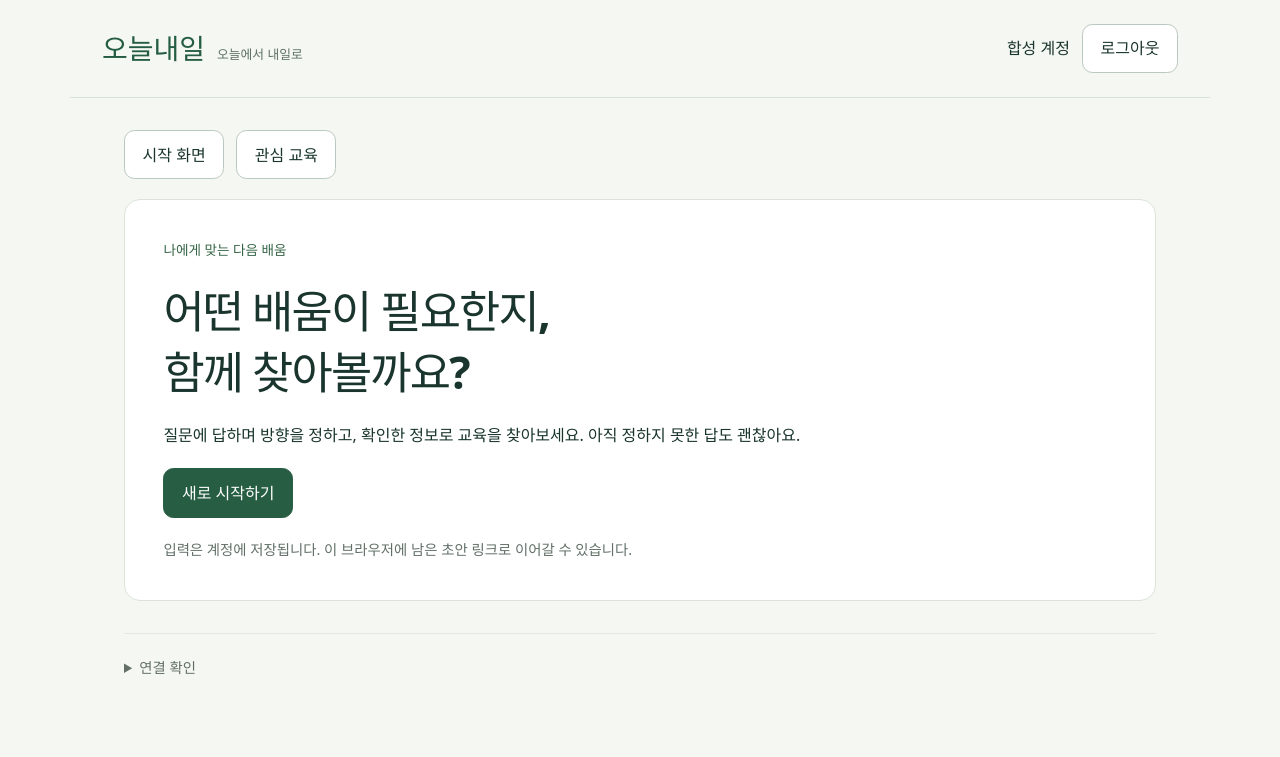
초안 생성·다시 불러오기 › 생성 실패 후 재시도 버튼이 실제 생성 요청을 다시 보내고 초안을 연다
Click the button "새로 시작하기" at (228, 493), box [163,468,293,518]
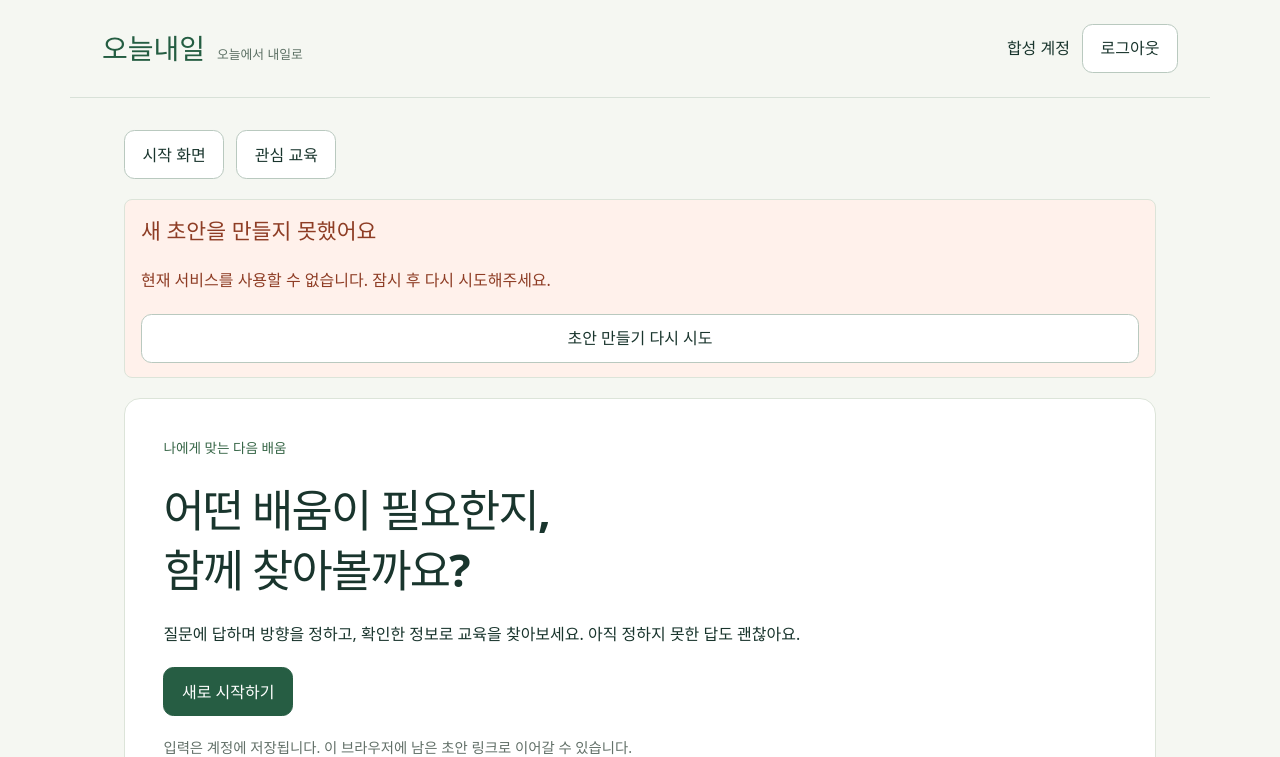
Now the heading "새 초안을 만들지 못했어요" is shown, box [141,216,376,245]
Click the button "초안 만들기 다시 시도" at (640, 338), box [141,314,1139,363]
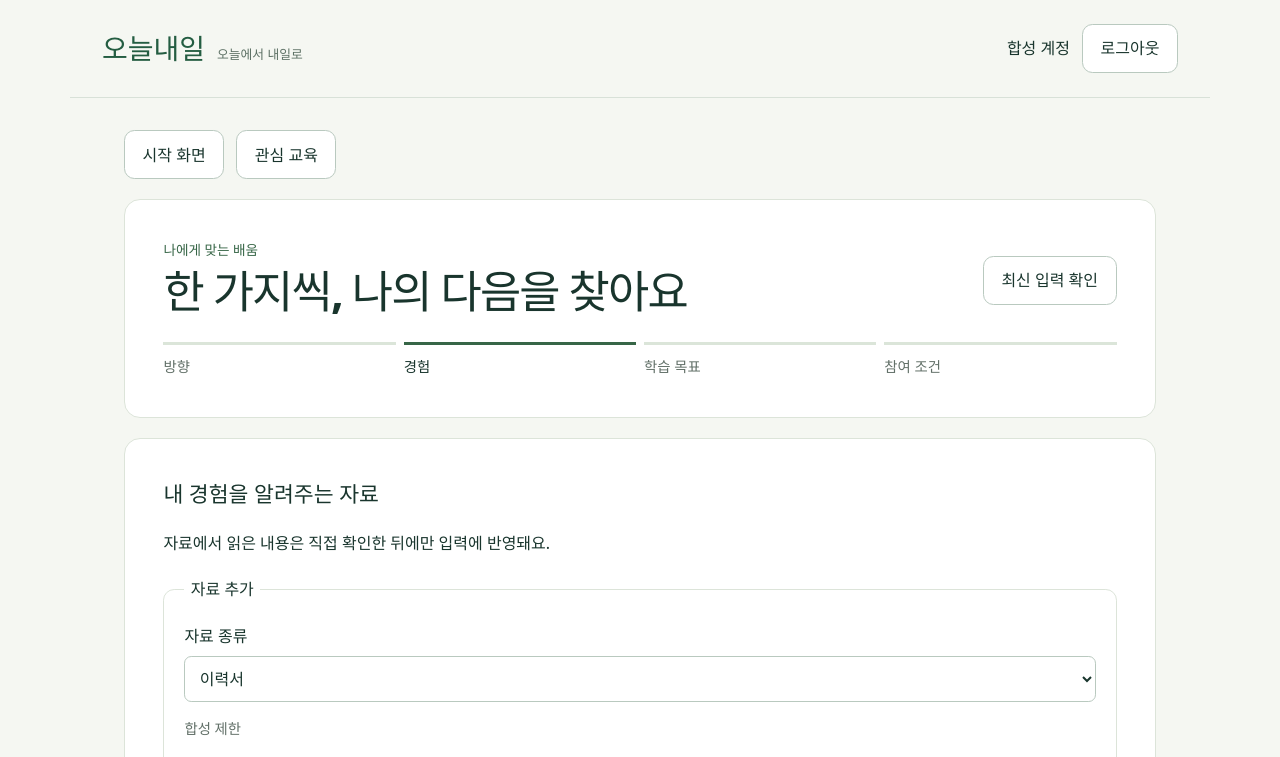
Now the element named "학습 입력" is shown, box [124,199,1156,418]
Now the message "새 초안을 만들지 못했어요 현재 서비스를 사용할 수 없습니다. 잠시 후 다시 시도해주세요. 초안 만들기 다시 시도" is gone
